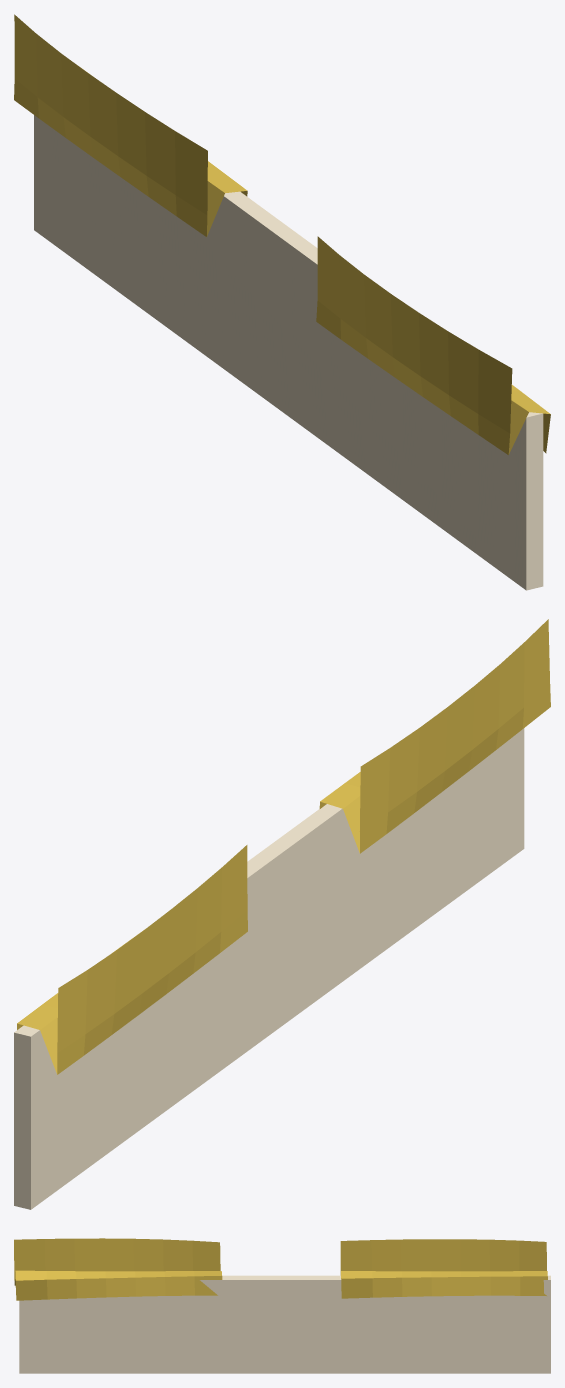
The model's file is button cutscene.fbx.
The picture shows the model from 3 angles, top to bottom: view 1: azimuth 30°, elevation 25°; view 2: azimuth 150°, elevation 25°; view 3: azimuth 270°, elevation 25°; orthographic projection. The views are drawn at different scales.
Parts seen in each view (by area): view 1: Cube, Plane.001, Plane; view 2: Cube, Plane.001, Plane; view 3: Cube, Plane.001, Plane.
Boxes of the visible parts, bbox=[...] form: Cube: bbox=[34, 115, 543, 590]; Plane.001: bbox=[316, 236, 550, 454]; Plane: bbox=[14, 14, 247, 236]; Cube: bbox=[14, 728, 524, 1209]; Plane.001: bbox=[319, 619, 550, 853]; Plane: bbox=[17, 845, 247, 1074]; Cube: bbox=[19, 1275, 550, 1373]; Plane.001: bbox=[14, 1238, 222, 1300]; Plane: bbox=[340, 1239, 547, 1298].
Size of the model in its own units: 32.2 by 133 by 520.
